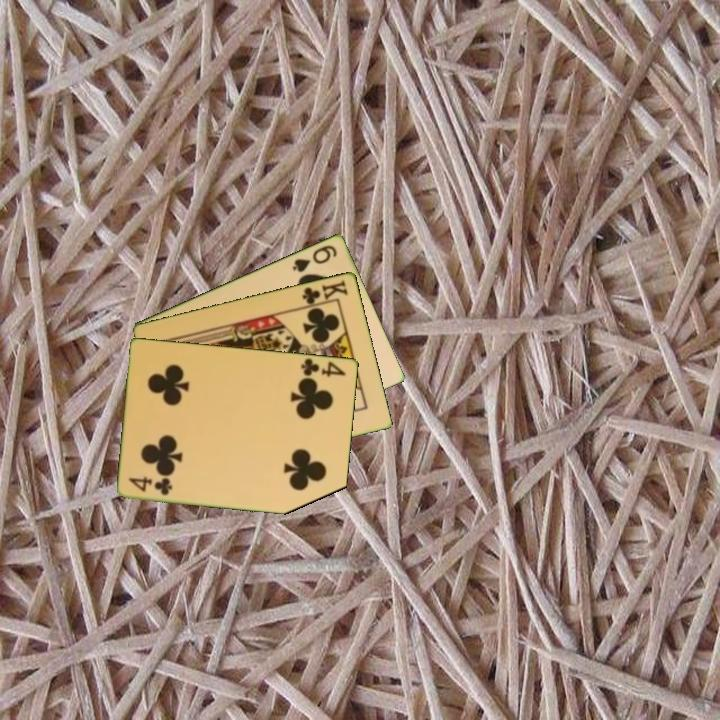4c: (297, 355, 349, 379), (126, 474, 176, 498)
6s: (289, 241, 340, 275)
Kc: (298, 276, 351, 310)
